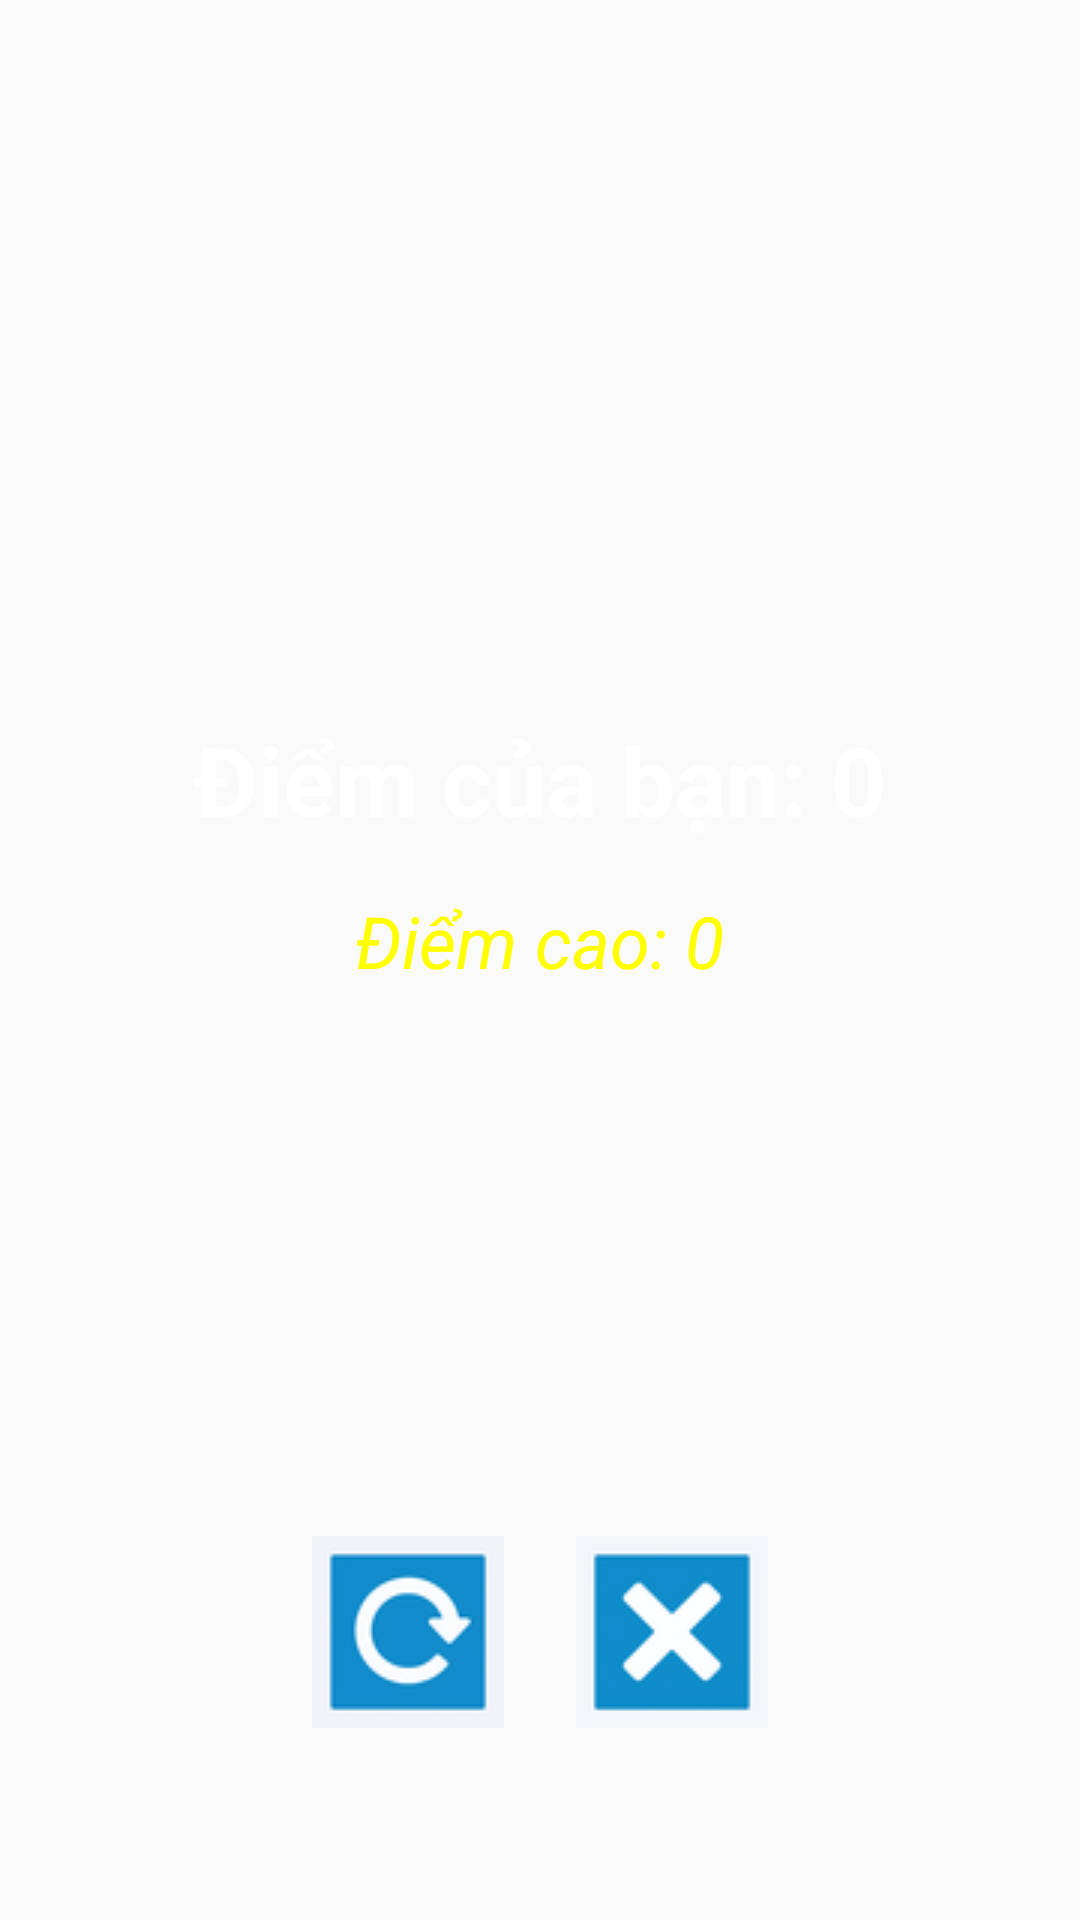

Named icons in this screenshot (1080w x 1920h) and their centers, (x=x, y=y):
Chơi lại: (x=408, y=1632)
Thoát game: (x=672, y=1632)
